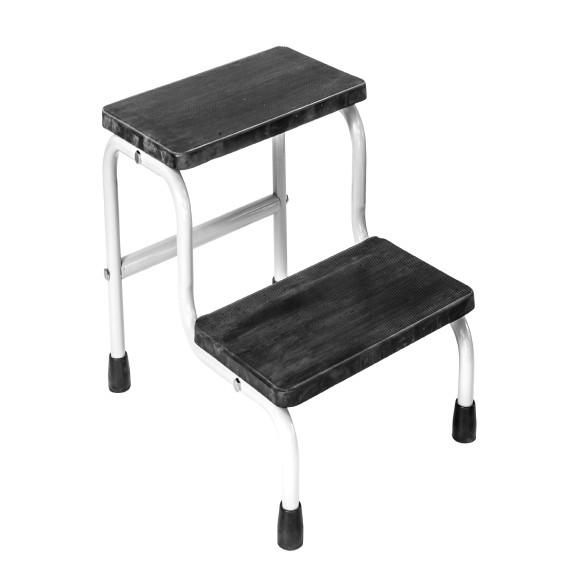stool: (89, 42, 483, 555)
